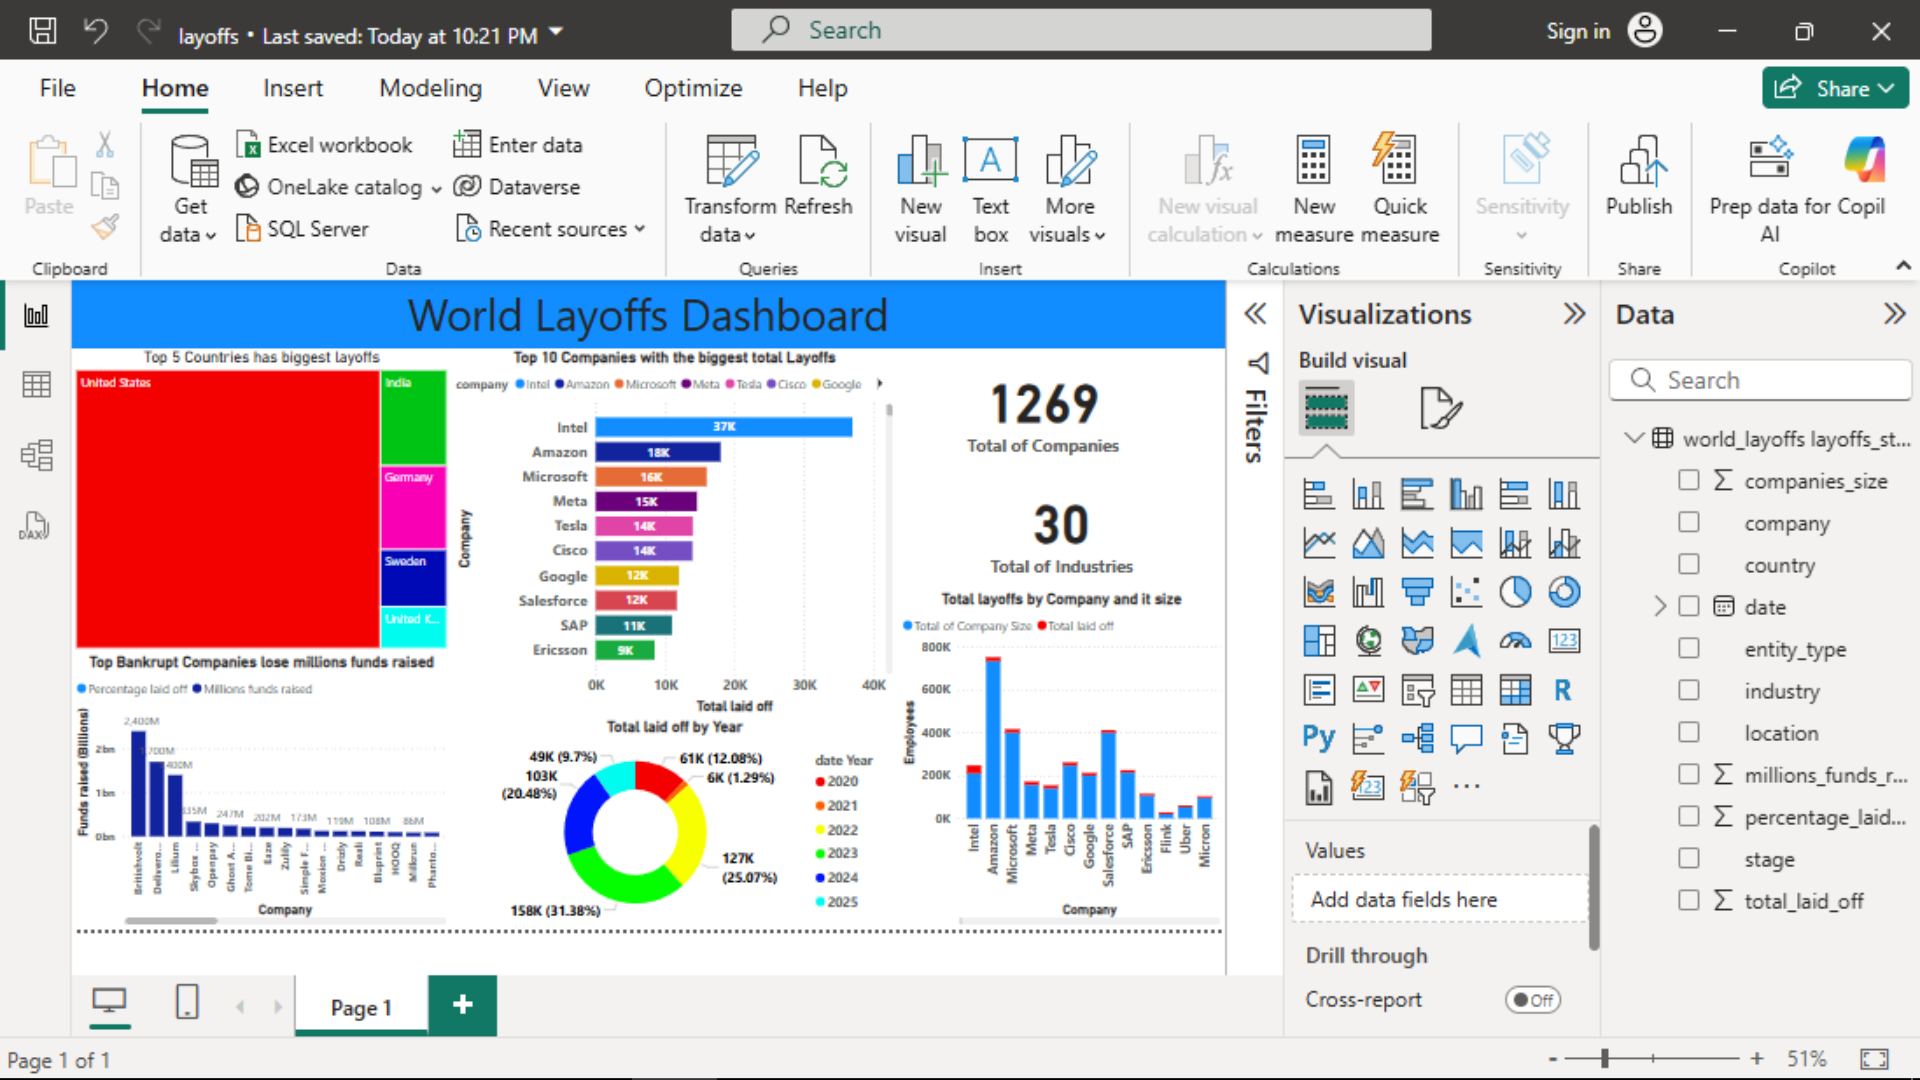

What the dashboard file says about the page in this screenshot:
{"tool":"powerbi","page":{"name":"Page 1","canvas":[1280,720],"ordinal":0},"visuals":[{"type":"textbox","box":[0,0,1280,75.5],"z":0},{"type":"card","fields":{"Values":["Count(world_layoffs layoffs_staging.company)"]},"box":[876,75.8,404,132.1],"z":1000},{"type":"barChart","title":"Top 10 Companies with the biggest total Layoffs","fields":{"Category":["world_layoffs layoffs_staging.company"],"Y":["Sum(world_layoffs layoffs_staging.total_laid_off)"],"Series":["world_layoffs layoffs_staging.company"]},"box":[421.5,75.8,495.3,409.8],"z":2000},{"type":"columnChart","title":"Total layoffs by Company and it size","fields":{"Category":["world_layoffs layoffs_staging.company","world_layoffs layoffs_staging.date.Variation.Date Hierarchy.Year"],"Y":["Sum(world_layoffs layoffs_staging.companies_size)","Sum(world_layoffs layoffs_staging.total_laid_off)"]},"box":[916.8,343.8,363.2,376.8],"z":3000},{"type":"donutChart","fields":{"Category":["world_layoffs layoffs_staging.date.Variation.Date Hierarchy.Year"],"Y":["Sum(world_layoffs layoffs_staging.total_laid_off)"]},"box":[421.5,485.6,495.3,235],"z":4000},{"type":"columnChart","title":"Top Bankrupt Companies lose millions funds raised","fields":{"Category":["world_layoffs layoffs_staging.company"],"Y":["Sum(world_layoffs layoffs_staging.percentage_laid_off)","Sum(world_layoffs layoffs_staging.millions_funds_raised)"]},"box":[0,413.7,421.5,306.9],"z":5000},{"type":"treemap","title":"Top 5 Countries has biggest layoffs","fields":{"Group":["world_layoffs layoffs_staging.country"],"Values":["Sum(world_layoffs layoffs_staging.total_laid_off)"]},"box":[0,75.8,421.5,338],"z":6000},{"type":"card","fields":{"Values":["Count(world_layoffs layoffs_staging.industry)"]},"box":[916.8,207.8,363.2,136],"z":7000}]}

Visuals, with their boxes on the page's 1280x720 design canvas (x1, y1, x2, y2). These are canvas units, not pixel positions in the 1920x1080 screenshot, which may show the page scaled, cropped or inside an application window:
textbox: <box>0,0,1280,76</box>
card - Count(world_layoffs layoffs_staging.company): <box>876,76,1280,208</box>
"Top 10 Companies with the biggest total Layoffs" barChart: <box>422,76,917,486</box>
"Total layoffs by Company and it size" columnChart: <box>917,344,1280,721</box>
donutChart - world_layoffs layoffs_staging.date.Variation.Date Hierarchy.Year x Sum(world_layoffs layoffs_staging.total_laid_off): <box>422,486,917,721</box>
"Top Bankrupt Companies lose millions funds raised" columnChart: <box>0,414,422,721</box>
"Top 5 Countries has biggest layoffs" treemap: <box>0,76,422,414</box>
card - Count(world_layoffs layoffs_staging.industry): <box>917,208,1280,344</box>
